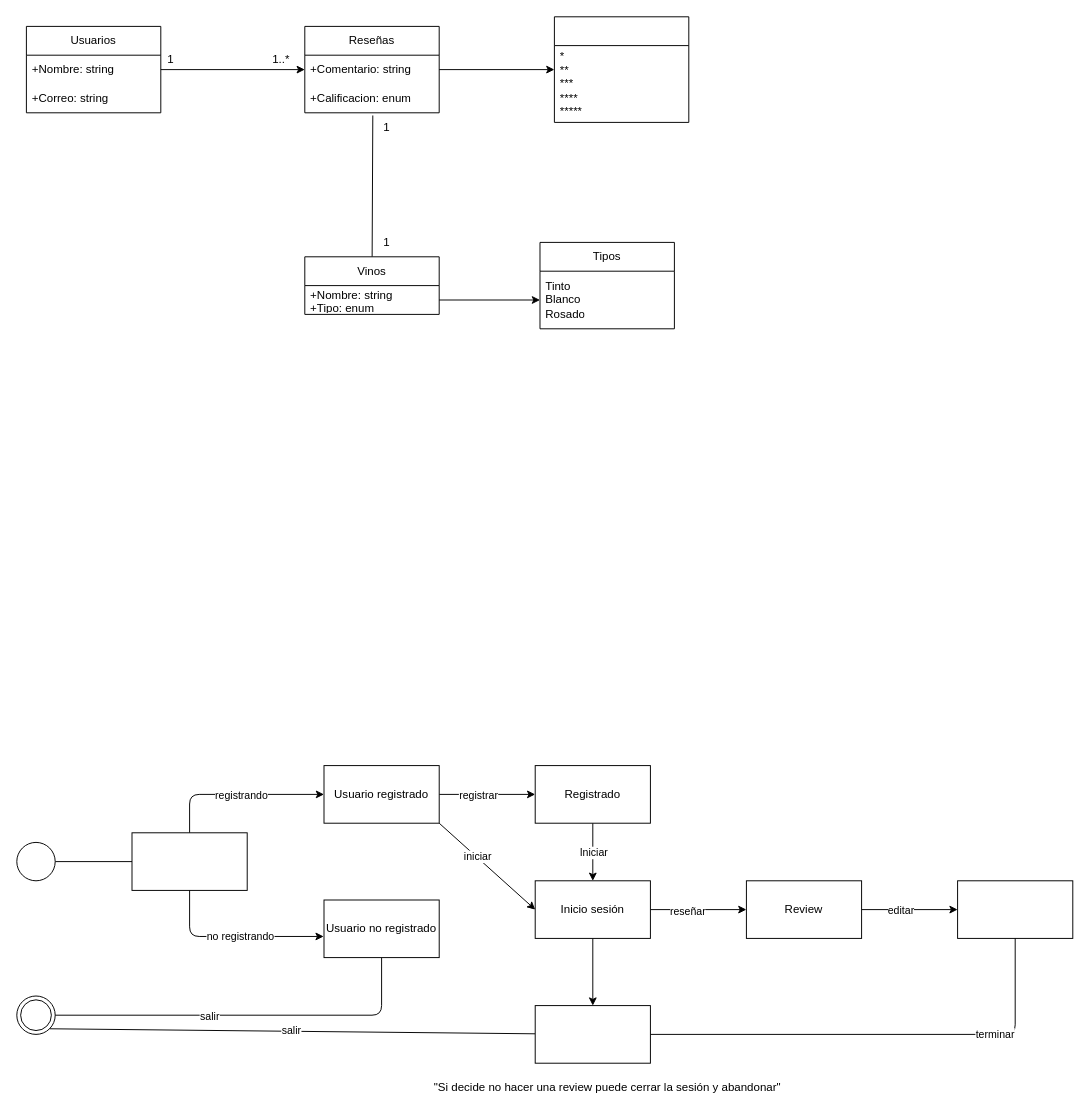
This 1090x1118 diagram has some shape labels left out. Each missing label, with the box of its shape:
Calificacion: (553, 16, 689, 122)
Cierre: (534, 1005, 650, 1063)
Edición: (957, 880, 1073, 938)
Esperar interacción: (131, 832, 247, 890)
